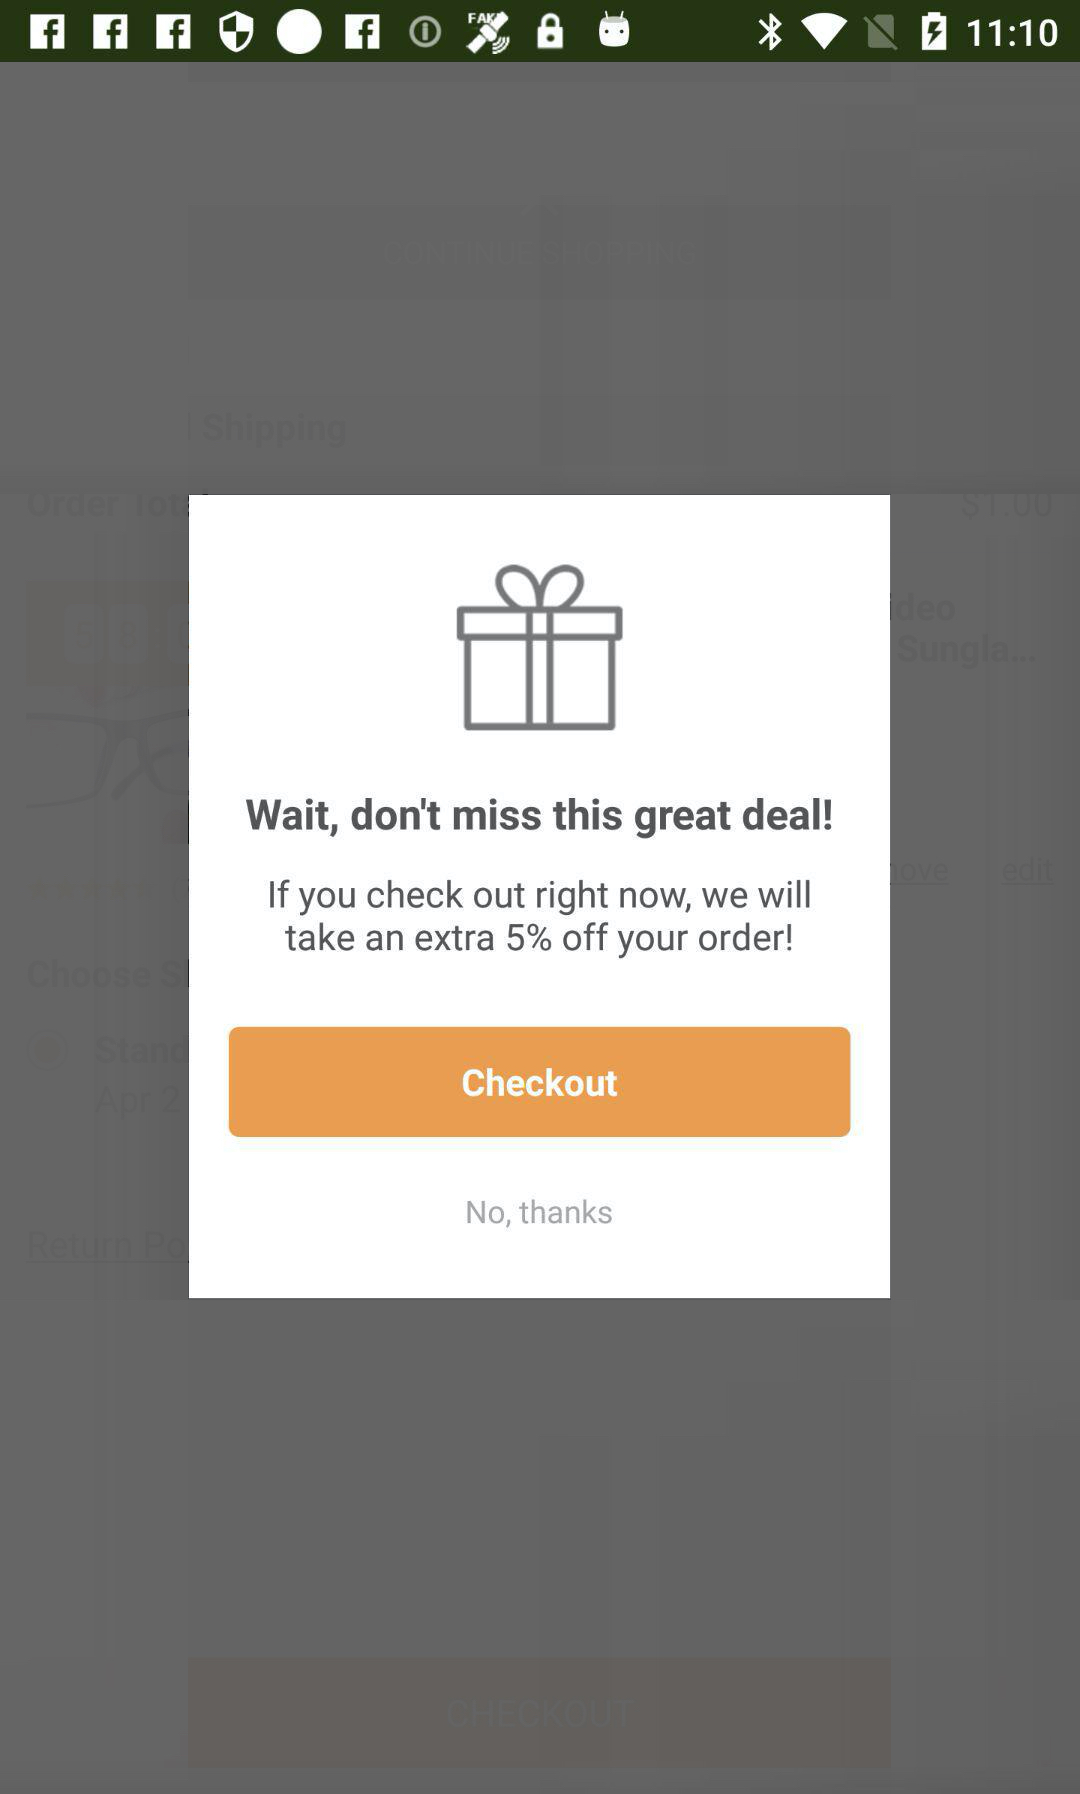Icon: (456, 564, 624, 732)
Modal: (190, 495, 890, 1299)
Text: (269, 879, 811, 960), (246, 797, 833, 841), (468, 1198, 612, 1230)
TextButton: (229, 1026, 852, 1138)
UpperTaskBar: (1, 1, 1080, 64)
